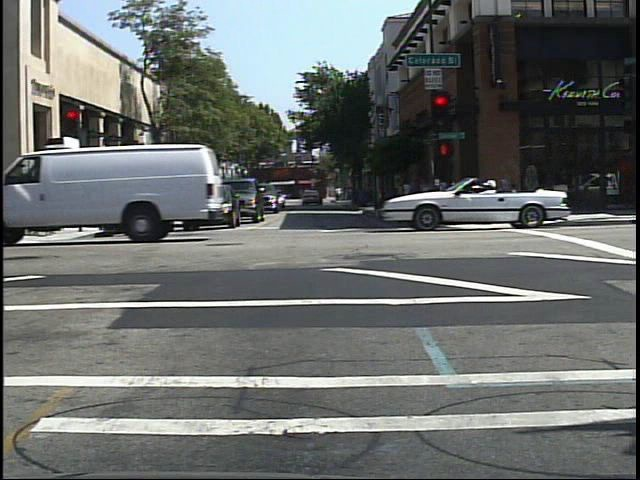person: (92, 180, 112, 228)
